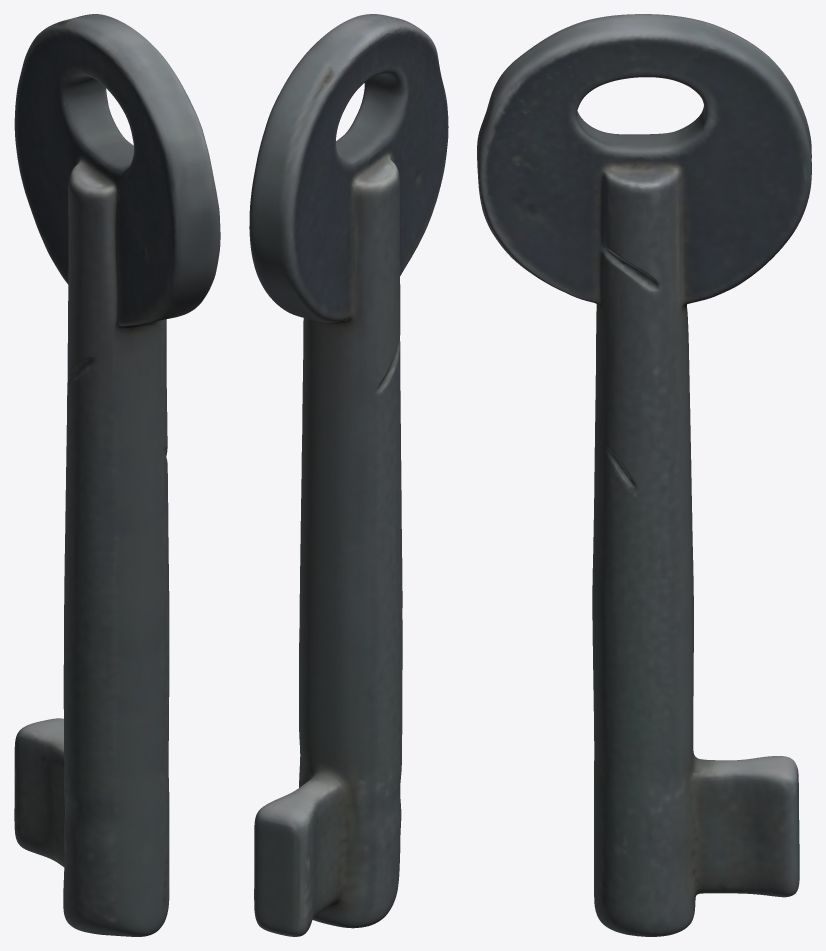
File: Key1.fbx
3 views of the same model, side by side, from view 1: azimuth 30°, elevation 25°; view 2: azimuth 150°, elevation 25°; view 3: azimuth 270°, elevation 25° (orthographic). The views are drawn at different scales.
Visible parts, largest first — view 1: tripo_node_c6a790f1.001; view 2: tripo_node_c6a790f1.001; view 3: tripo_node_c6a790f1.001.
Boxes of the visible parts, box(x1,y1,x2,y2) form: tripo_node_c6a790f1.001: box(14, 14, 220, 936); tripo_node_c6a790f1.001: box(249, 14, 448, 936); tripo_node_c6a790f1.001: box(477, 14, 811, 936).
Bounding box in the file's own units: 4.86 × 45.74 × 15.42.
1 material, 1 textured.
